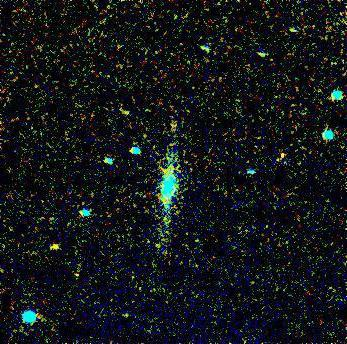star: (40, 230, 70, 260)
